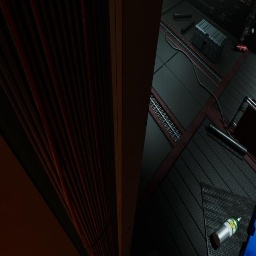0: (213, 216, 241, 246)
FireExtinguisher ]: (234, 44, 250, 52)
